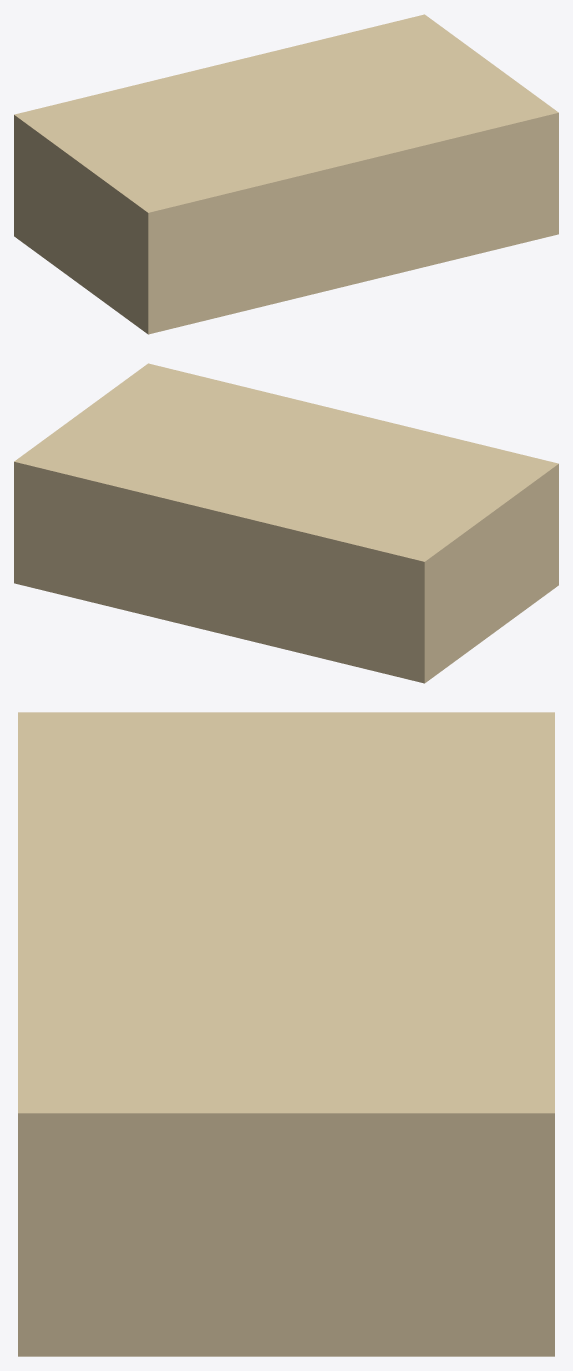
File: cacafantasma_cintura.glb
3 renders of one model, top to bottom at view 1: azimuth 30°, elevation 25°; view 2: azimuth 150°, elevation 25°; view 3: azimuth 270°, elevation 25°, orthographic. The views are drawn at different scales.
Visible parts, largest first — view 1: cacafantasma_cintura; view 2: cacafantasma_cintura; view 3: cacafantasma_cintura.
Part boxes in pixels (x1,y1,x2,y2): cacafantasma_cintura: [14, 14, 558, 334]; cacafantasma_cintura: [14, 363, 558, 683]; cacafantasma_cintura: [18, 712, 554, 1356].
Bounding box in the file's own units: 0.53 × 0.15 × 0.3.
